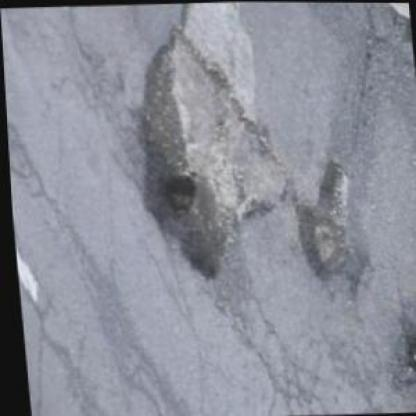pothole: (121, 22, 292, 284), (284, 160, 358, 287), (374, 290, 414, 391)
